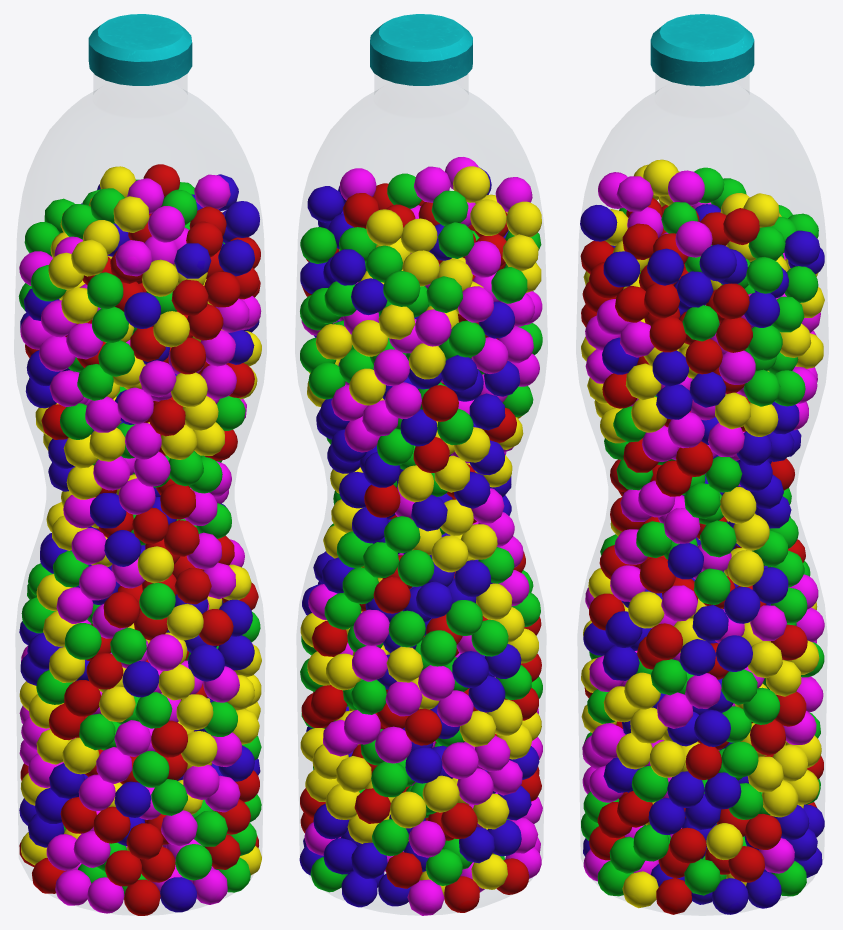
The picture shows the model from 3 angles, left to right: view 1: azimuth 30°, elevation 25°; view 2: azimuth 150°, elevation 25°; view 3: azimuth 270°, elevation 25°; orthographic projection.
Parts seen in each view (by area): view 1: VerdeGR3, Tapon; view 2: VerdeGR3, Tapon; view 3: VerdeGR3, Tapon.
Part boxes in pixels (x1,y1,x2,y2): VerdeGR3: (18, 164, 261, 915); Tapon: (88, 14, 192, 85); VerdeGR3: (299, 157, 542, 915); Tapon: (370, 14, 472, 85); VerdeGR3: (580, 159, 824, 914); Tapon: (650, 14, 754, 86).
Size of the model in its own units: 4.16 by 15.16 by 4.14.
